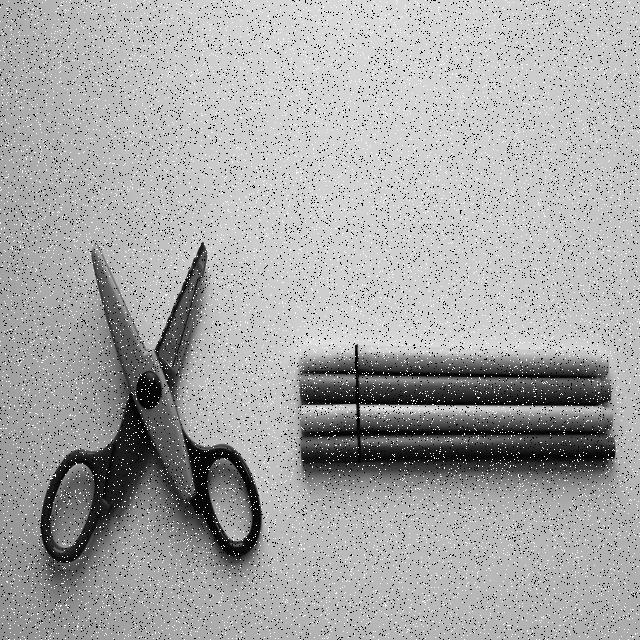scissors: (36, 228, 265, 573)
